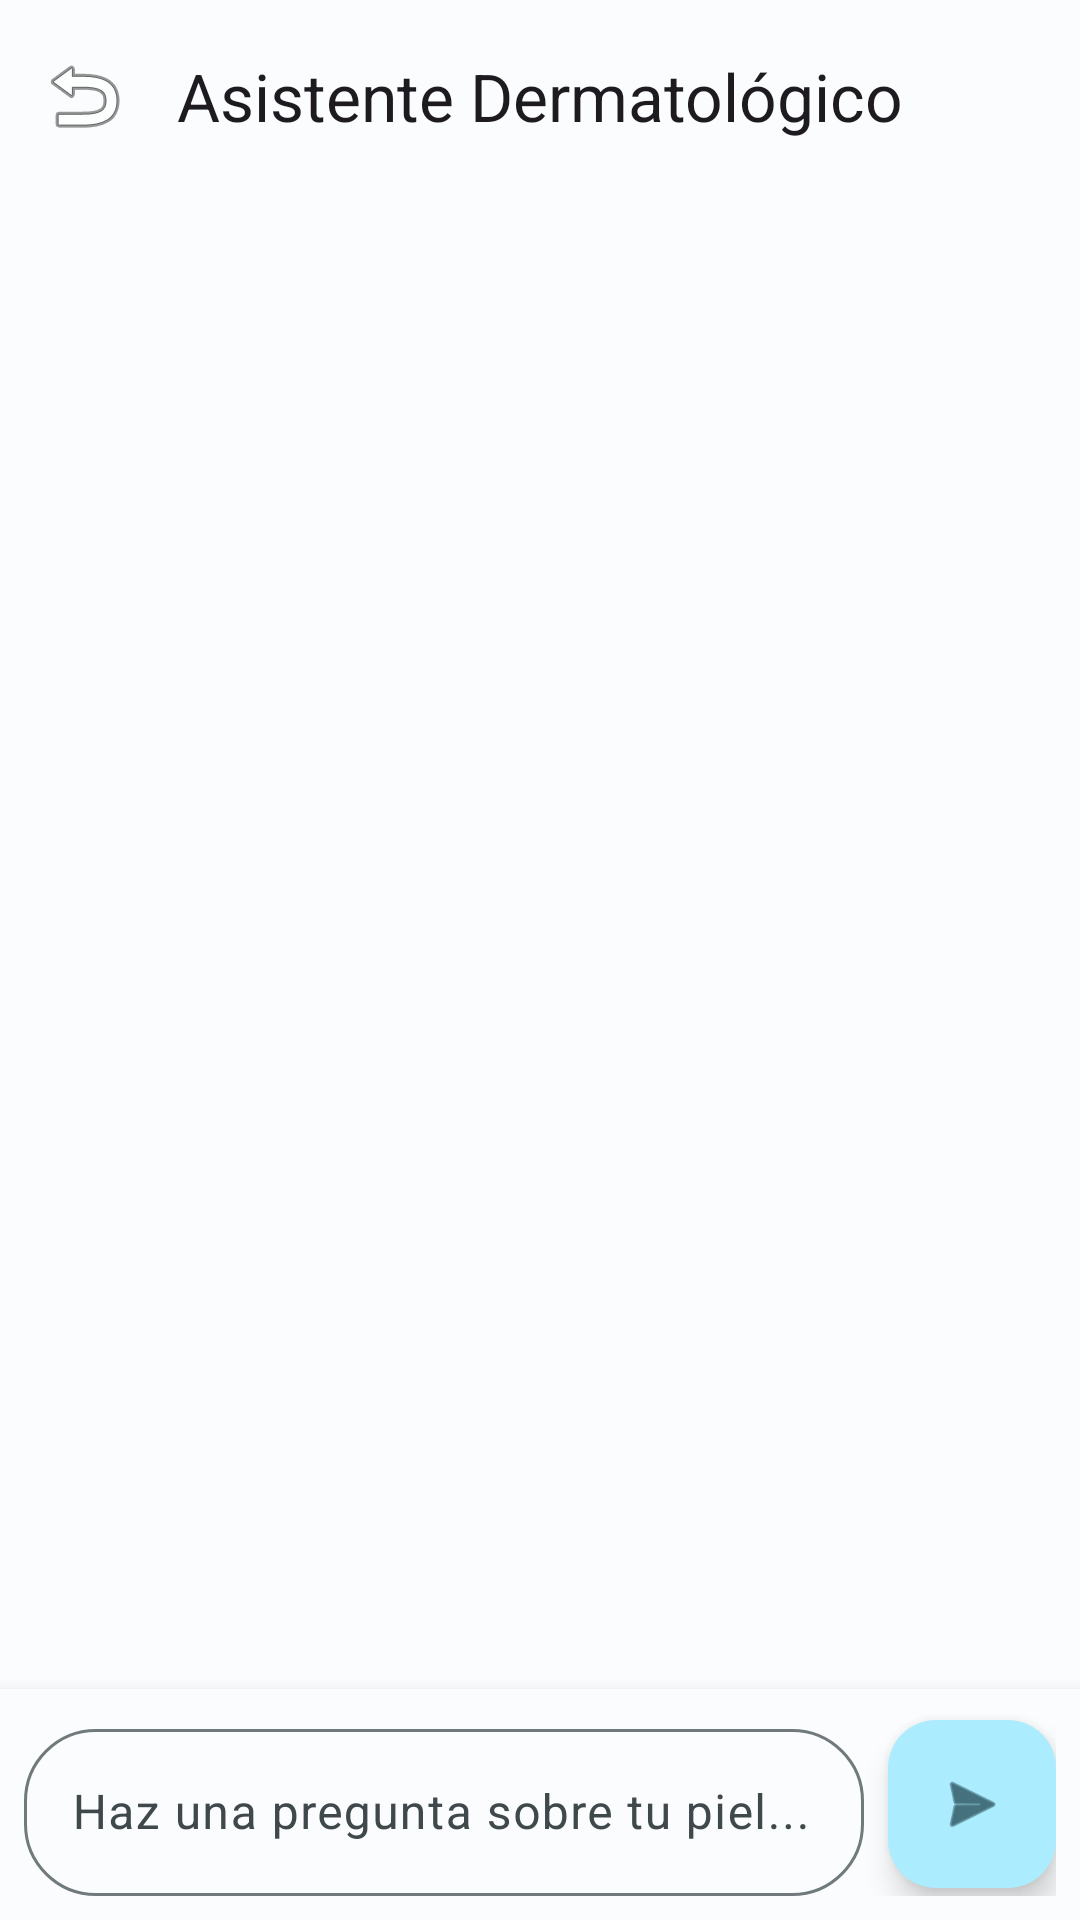

Point at icon controls on the screen. Image size 1080*1920, points as point (x, y).
Enviar mensaje: point (972, 1804)
